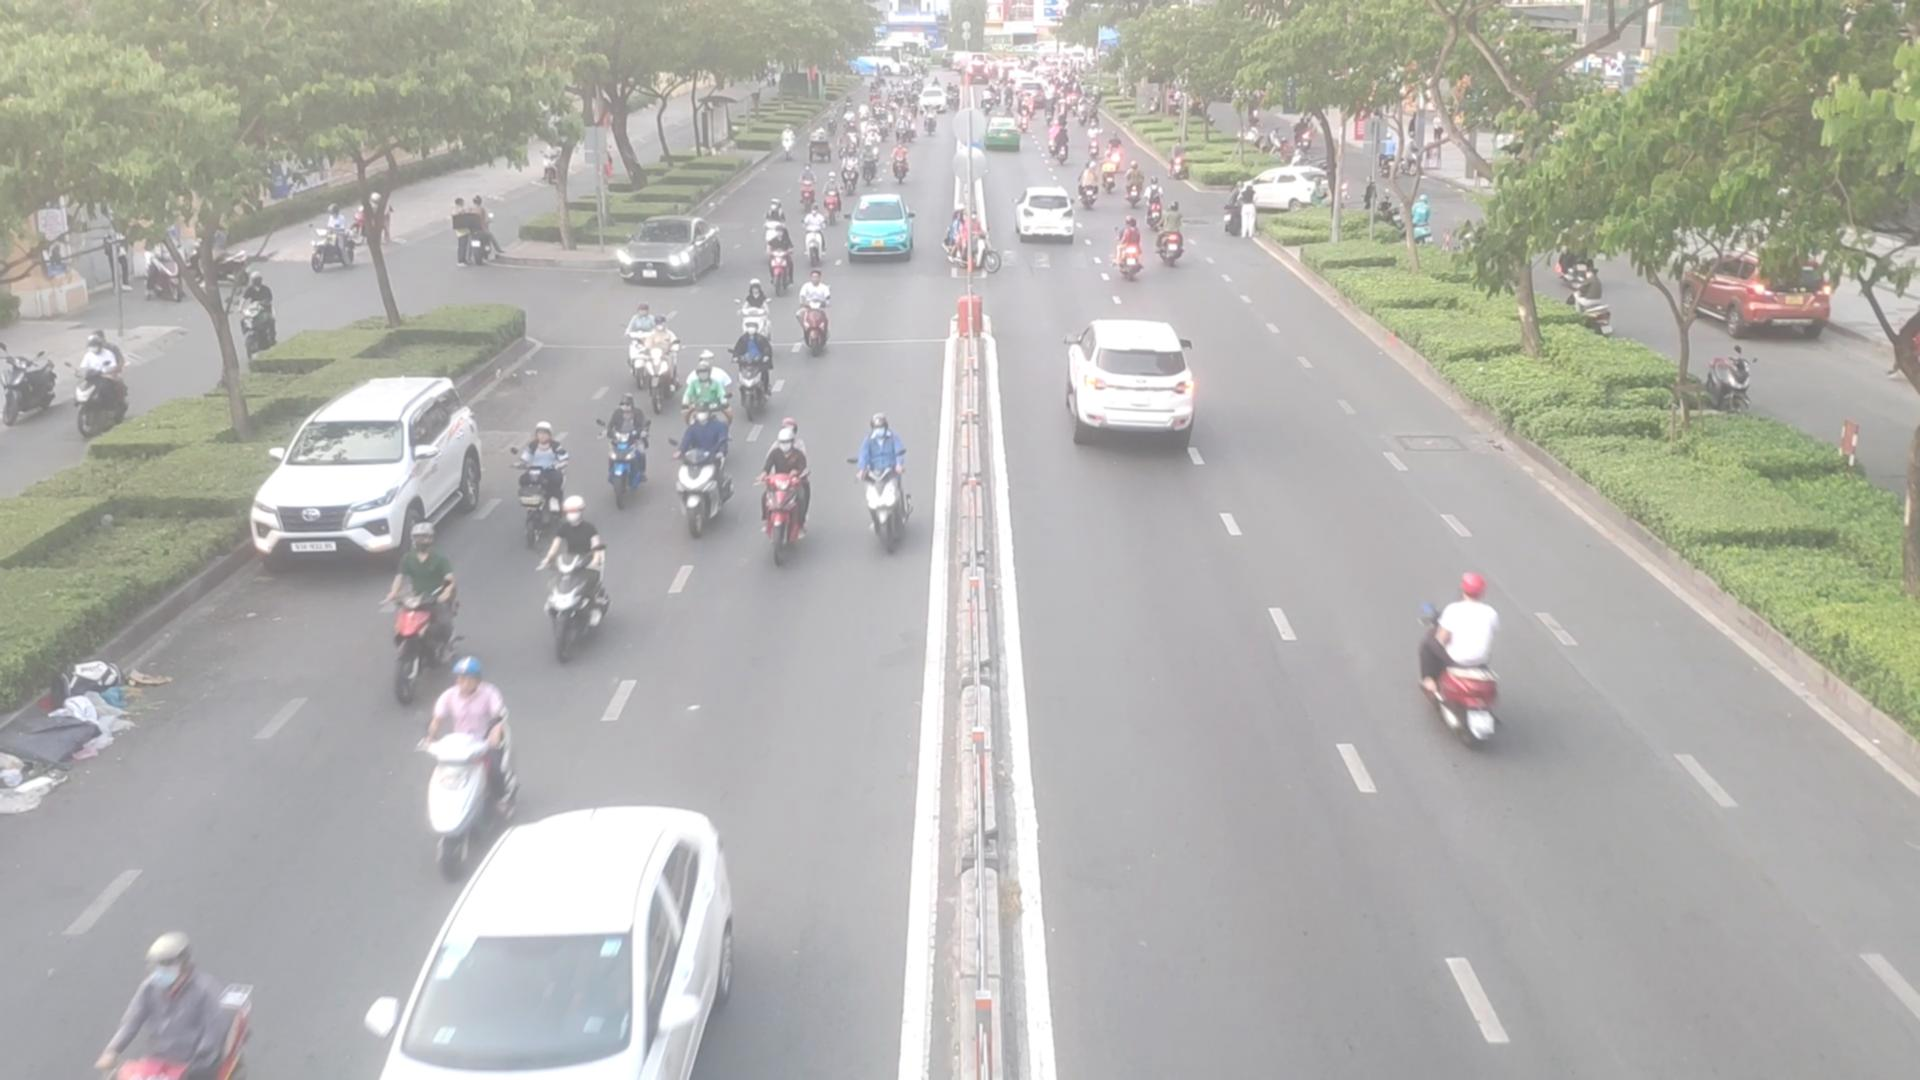car: (386, 804, 713, 1080), (253, 378, 489, 571), (1065, 322, 1197, 440), (618, 219, 729, 287), (843, 191, 914, 262), (1015, 189, 1076, 239)
motorbike: (1407, 570, 1524, 749), (429, 655, 530, 862), (116, 939, 247, 1077), (365, 517, 465, 694), (543, 493, 622, 646), (853, 397, 924, 545), (761, 410, 822, 555), (671, 404, 744, 520), (514, 425, 579, 550), (591, 392, 655, 498), (640, 309, 691, 410), (603, 293, 655, 388), (793, 278, 847, 367), (679, 349, 736, 433), (729, 328, 783, 407), (723, 284, 771, 343), (1108, 218, 1149, 284), (951, 218, 992, 272), (765, 232, 795, 291), (1142, 175, 1174, 228), (760, 196, 789, 248), (1079, 164, 1108, 215), (799, 214, 828, 261), (818, 179, 848, 224), (795, 167, 825, 208), (1159, 204, 1180, 262), (1127, 164, 1145, 202)
